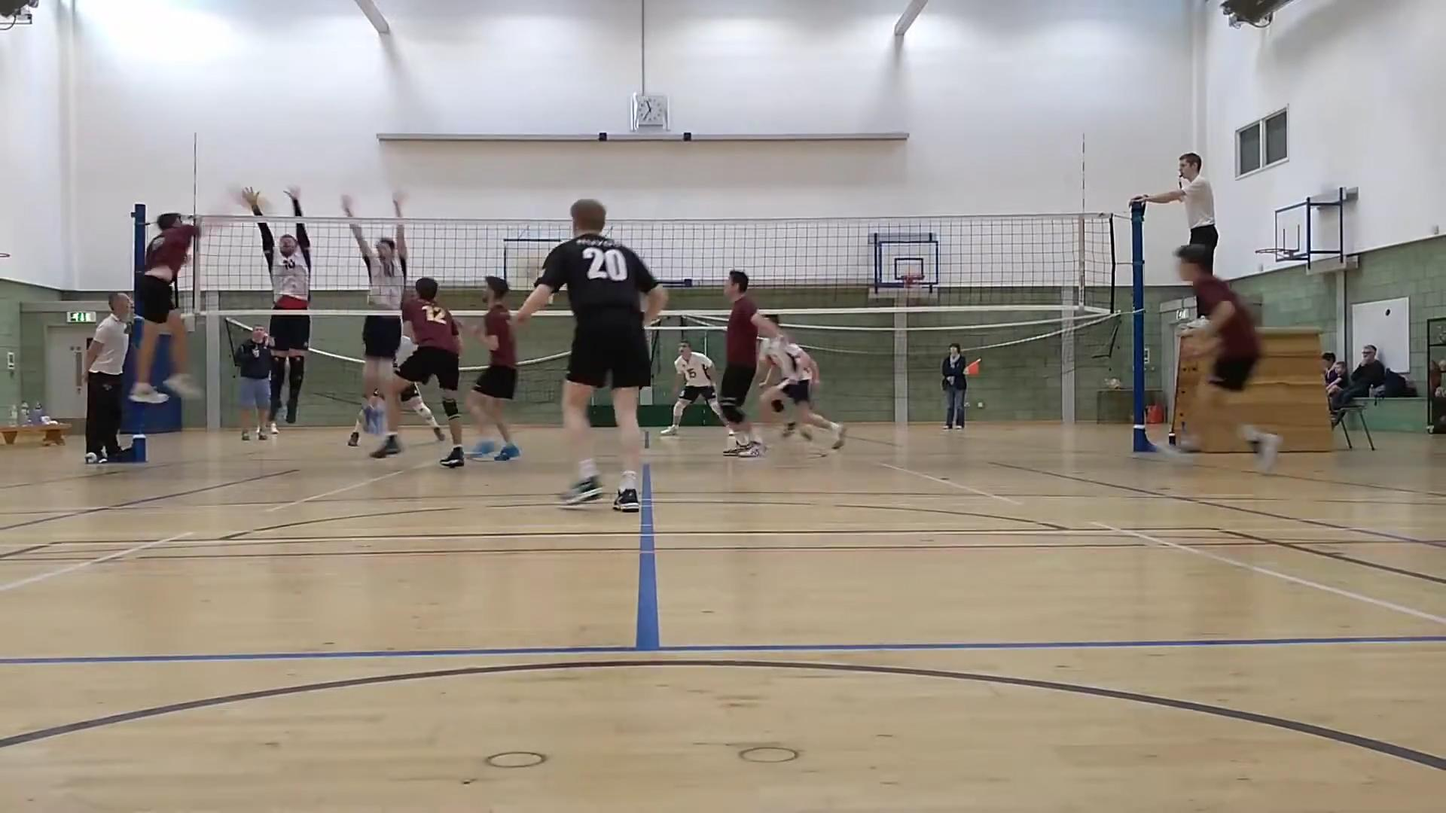attacco: (130, 191, 221, 402)
muro: (335, 176, 415, 449), (233, 177, 316, 427)
